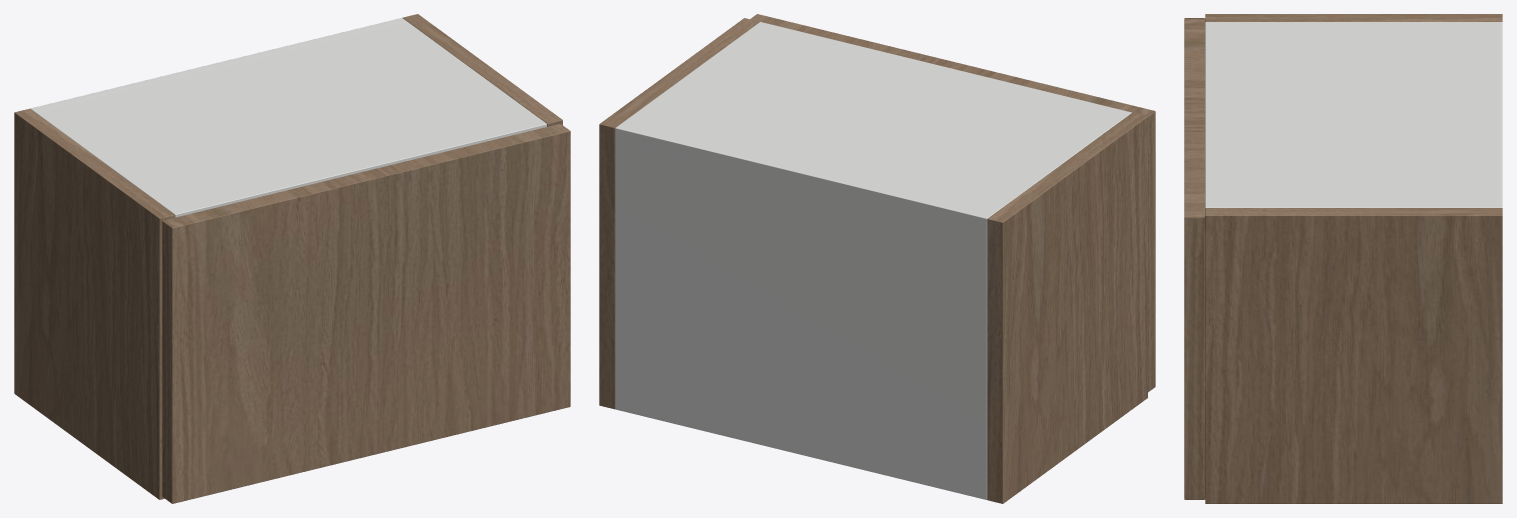
File: oppein-pb-mnw-w1812.glb
3 views of the same model, side by side, from view 1: azimuth 30°, elevation 25°; view 2: azimuth 150°, elevation 25°; view 3: azimuth 270°, elevation 25° (orthographic). The views are drawn at different scales.
Parts seen in each view (by area): view 1: Door, Cabinet top, Cabinet side, Cabinet side.001, Cabinet back; view 2: Cabinet back, Cabinet top, Cabinet side, Cabinet side.001, Door, Cabinet bottom; view 3: Cabinet side.001, Cabinet top, Door, Cabinet side, Cabinet back.
Boxes of the visible parts, left/top/right/bottom form: Door: left=162, top=123, right=570, bottom=503; Cabinet top: left=36, top=18, right=546, bottom=217; Cabinet side: left=14, top=108, right=174, bottom=499; Cabinet side.001: left=402, top=14, right=562, bottom=126; Cabinet back: left=30, top=18, right=407, bottom=112; Cabinet back: left=615, top=123, right=992, bottom=499; Cabinet top: left=615, top=22, right=1131, bottom=230; Cabinet side: left=987, top=112, right=1147, bottom=503; Cabinet side.001: left=599, top=18, right=759, bottom=409; Door: left=750, top=14, right=1155, bottom=392; Cabinet bottom: left=615, top=404, right=987, bottom=499; Cabinet side.001: left=1205, top=208, right=1502, bottom=503; Cabinet top: left=1205, top=22, right=1501, bottom=207; Door: left=1184, top=18, right=1205, bottom=499; Cabinet side: left=1205, top=14, right=1502, bottom=21; Cabinet back: left=1490, top=22, right=1502, bottom=207.
Bounding box in the file's own units: 0.4572 × 0.3048 × 0.3048.
2 materials, 1 textured.
